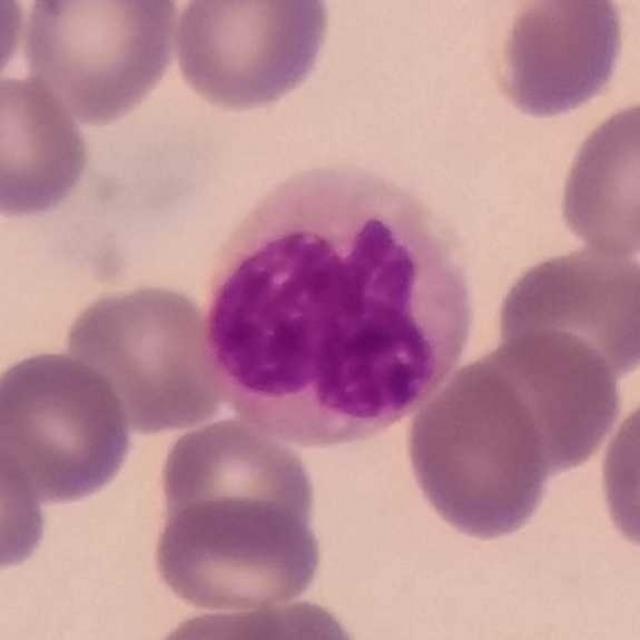Monocyte: (200, 161, 478, 445)
RBC: (401, 358, 552, 544), (58, 278, 234, 434), (452, 324, 624, 477), (152, 414, 322, 552), (0, 345, 137, 508), (491, 242, 640, 390), (147, 493, 325, 616), (15, 0, 184, 128), (167, 0, 338, 116), (489, 0, 631, 122), (0, 66, 96, 222), (553, 94, 640, 262), (162, 594, 370, 640), (594, 385, 640, 566), (0, 424, 52, 581), (0, 1, 30, 98)
